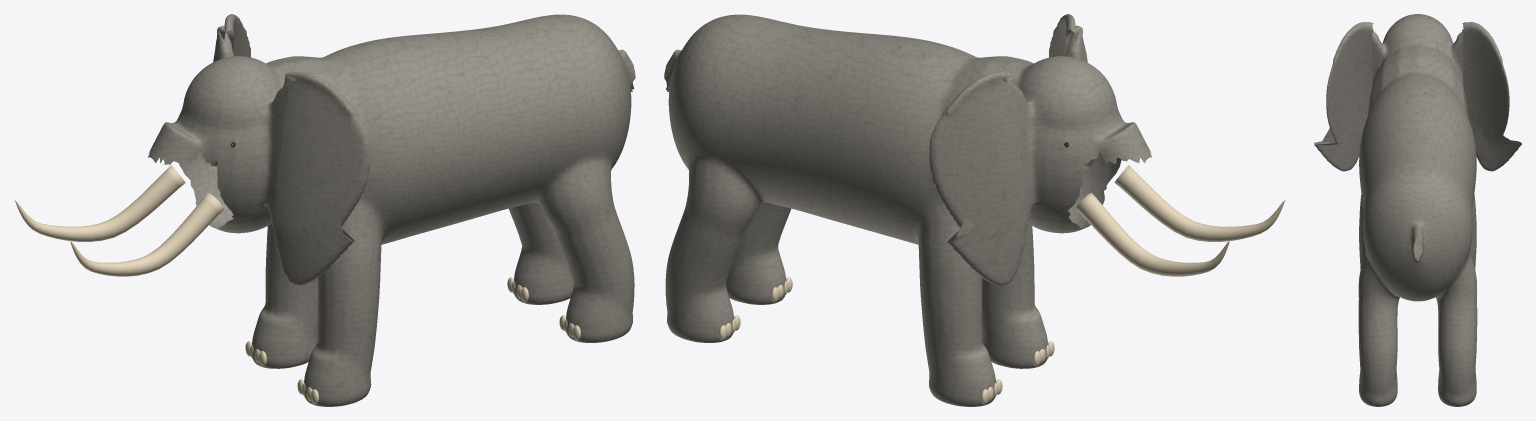
The model's file is kerala-tusker.glb.
3 renders of one model, left to right at view 1: azimuth 30°, elevation 25°; view 2: azimuth 150°, elevation 25°; view 3: azimuth 270°, elevation 25°, orthographic. The views are drawn at different scales.
Parts seen in each view (by area): view 1: Kerala tusker material 2, Kerala tusker material 3; view 2: Kerala tusker material 2, Kerala tusker material 3; view 3: Kerala tusker material 2.
Boxes of the visible parts, x1,y1,x2,y2 form: Kerala tusker material 2: [148, 14, 635, 406]; Kerala tusker material 3: [14, 145, 580, 404]; Kerala tusker material 2: [664, 14, 1151, 406]; Kerala tusker material 3: [719, 145, 1285, 404]; Kerala tusker material 2: [1314, 14, 1521, 406].
Bounding box in the file's own units: 7.16 × 3.98 × 2.87.
Materials: 4 (4 with a texture image).
